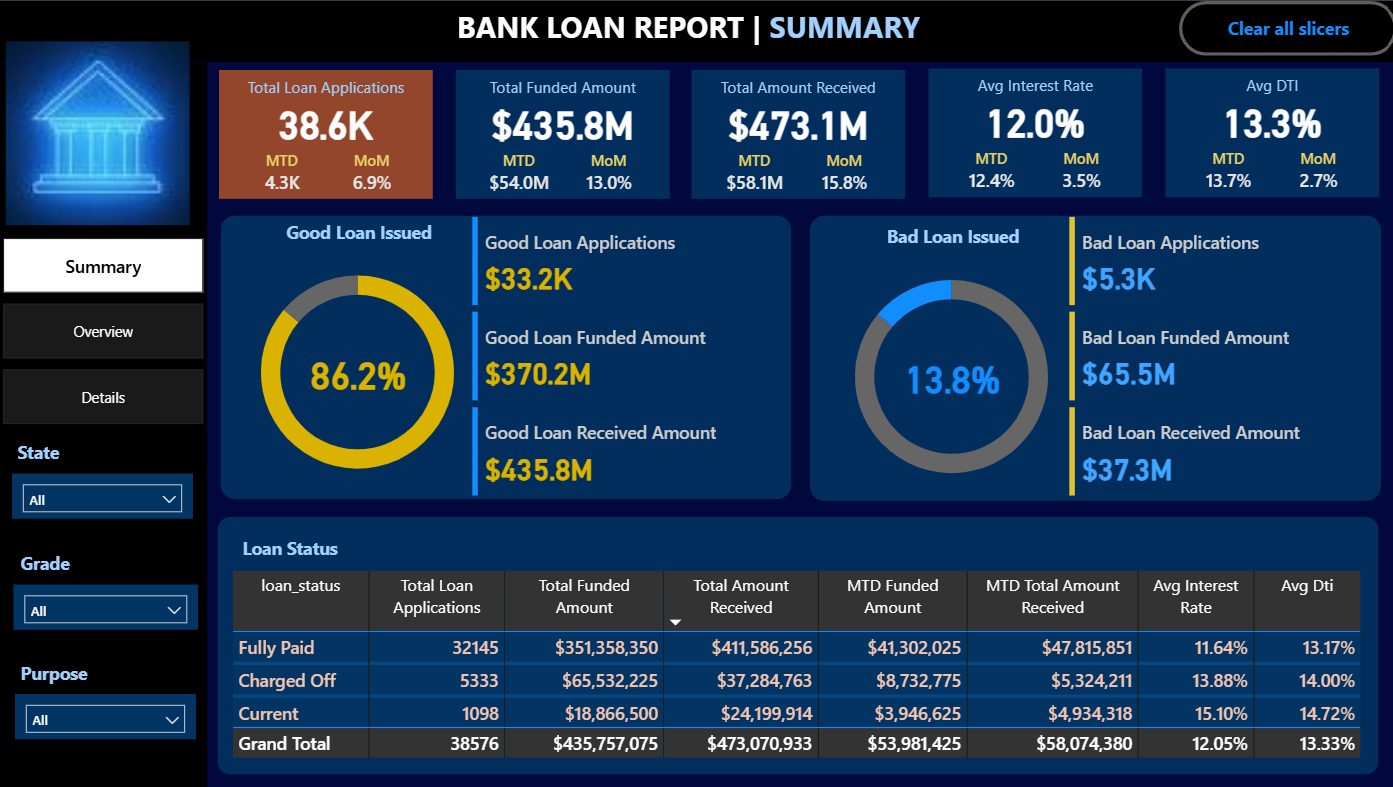

Layout of this report page (visuals, bound fields, positions):
{"tool":"powerbi","page":{"name":"Summary","canvas":[1280,720],"ordinal":0},"visuals":[{"type":"shape","box":[0,55.7,192,664.9],"z":0},{"type":"shape","box":[0,0,1278.9,55.7],"z":1000},{"type":"textbox","box":[415.1,0,447,62],"z":2000},{"type":"shape","box":[851,62,195.6,117.7],"z":3000,"group":"g4"},{"type":"shape","box":[1067.3,62,195.6,117.7],"z":3000,"group":"g5"},{"type":"group","id":"g1","title":"Group 1","box":[203.3,63.3,196.7,118.3],"z":3000},{"type":"shape","box":[203.3,63.3,195.6,117.7],"z":3000,"group":"g1"},{"type":"shape","box":[419,63.3,195.6,117.7],"z":3000,"group":"g2"},{"type":"shape","box":[634.7,63.6,195.6,117.7],"z":3000,"group":"g3"},{"type":"group","id":"g2","title":"Group 1","box":[419,63.3,196.7,118.3],"z":4000},{"type":"card","fields":{"Values":["bank_loan_data.Avg Interest Rate"]},"box":[851,84.3,194.1,50.9],"z":4000,"group":"g4"},{"type":"card","fields":{"Values":["bank_loan_data.Avg Dti"]},"box":[1067.3,84.3,194.1,50.9],"z":4000,"group":"g5"},{"type":"card","fields":{"Values":["bank_loan_data.Total Loan Applications"]},"box":[203.3,85.6,194.1,50.9],"z":4000,"group":"g1"},{"type":"card","fields":{"Values":["bank_loan_data.Total Funded Amount"]},"box":[419,85.6,194.1,50.9],"z":4000,"group":"g2"},{"type":"card","fields":{"Values":["bank_loan_data.Total Amount Received"]},"box":[634.7,85.9,194.1,50.9],"z":4000,"group":"g3"},{"type":"textbox","box":[851,62,195.6,33.4],"z":5000,"group":"g4"},{"type":"textbox","box":[1067.3,62,195.6,33.4],"z":5000,"group":"g5"},{"type":"textbox","box":[203.3,63.3,195.6,33.4],"z":5000,"group":"g1"},{"type":"textbox","box":[419,63.3,195.6,33.4],"z":5000,"group":"g2"},{"type":"textbox","box":[634.7,63.6,195.6,33.4],"z":5000,"group":"g3"},{"type":"shape","box":[203.6,195.6,521.7,259.3],"z":5000},{"type":"group","id":"g3","title":"Group 1","box":[634.7,63.6,197.2,117.7],"z":6000},{"type":"card","title":"MTD","fields":{"Values":["bank_loan_data.MTD Avg Interest Rate"]},"box":[867.4,135,81.7,45],"z":6000,"group":"g4"},{"type":"card","title":"MTD","fields":{"Values":["bank_loan_data.MTD Avg DTI"]},"box":[1083.7,135,81.7,45],"z":6000,"group":"g5"},{"type":"card","title":"MTD","fields":{"Values":["bank_loan_data.MTD Loan Applications"]},"box":[219.7,136.3,81.7,45],"z":6000,"group":"g1"},{"type":"card","title":"MTD","fields":{"Values":["bank_loan_data.MTD Funded Amount"]},"box":[435.4,136.3,81.7,45],"z":6000,"group":"g2"},{"type":"card","title":"MTD","fields":{"Values":["bank_loan_data.MTD Total Amount Received"]},"box":[651.1,136.6,81.7,45],"z":6000,"group":"g3"},{"type":"donutChart","fields":{"Category":["bank_loan_data.Good vs Bad Loan"],"Y":["bank_loan_data.Total Loan Applications"]},"box":[203.6,224.3,249.7,230.6],"z":6000,"group":"g6"},{"type":"donutChart","fields":{"Category":["bank_loan_data.Good vs Bad Loan"],"Y":["bank_loan_data.Total Loan Applications"]},"box":[747.6,228.2,249.7,230.6],"z":6000,"group":"g7"},{"type":"group","id":"g4","title":"Group 1","box":[851,62,197.2,117.7],"z":7000},{"type":"card","title":"MoM","fields":{"Values":["bank_loan_data.MoM Avg Interest Rate"]},"box":[949.1,135,81.7,45],"z":7000,"group":"g4"},{"type":"card","title":"MoM","fields":{"Values":["bank_loan_data.MoM Avg DTI"]},"box":[1165.4,135,81.7,45],"z":7000,"group":"g5"},{"type":"card","title":"MoM","fields":{"Values":["bank_loan_data.MoM Loan Application"]},"box":[301.4,136.3,81.7,45],"z":7000,"group":"g1"},{"type":"card","title":"MoM","fields":{"Values":["bank_loan_data.MoM Total Funded Amount"]},"box":[517.1,136.3,81.7,45],"z":7000,"group":"g2"},{"type":"card","title":"MoM","fields":{"Values":["bank_loan_data.MoM Total Amount Received"]},"box":[732.8,136.6,81.7,45],"z":7000,"group":"g3"},{"type":"card","fields":{"Values":["bank_loan_data.Good Loan %"]},"box":[273.6,315,111.3,50.9],"z":7000,"group":"g6"},{"type":"card","fields":{"Values":["bank_loan_data.Bad Loan %"]},"box":[817.6,318.9,111.3,50.9],"z":7000,"group":"g7"},{"type":"group","id":"g5","title":"Group 1","box":[1067.3,62,197.2,117.7],"z":8000},{"type":"textbox","box":[232.2,195.7,195.6,33.4],"z":8000,"group":"g6"},{"type":"textbox","box":[776.2,199.6,195.6,33.4],"z":8000,"group":"g7"},{"type":"shape","box":[202,470.8,1060.9,235.4],"z":9000},{"type":"textbox","box":[219.5,483.5,111.3,35],"z":10000},{"type":"shape","box":[742.8,195.6,521.7,260.9],"z":11000},{"type":"group","id":"g6","title":"Group 2","box":[203.6,192.5,513.8,265.6],"z":12000},{"type":"cardVisual","fields":{"Data":["bank_loan_data.Good Loan Applications","bank_loan_data.Good Loan Funded Amount","bank_loan_data.Good Loan Received Amount"]},"box":[427.9,192.5,289.5,265.6],"z":13000,"group":"g6"},{"type":"group","id":"g7","title":"Group 2","box":[747.6,192.5,516.9,265.6],"z":13000},{"type":"cardVisual","fields":{"Data":["bank_loan_data.Bad Loan Applications","bank_loan_data.Bad Loan Funded Amount","bank_loan_data.Bad Loan Received Amount"]},"box":[975.3,192.5,289.5,265.6],"z":13000,"group":"g7"},{"type":"tableEx","fields":{"Values":["bank_loan_data.loan_status","bank_loan_data.Total Loan Applications","bank_loan_data.Total Funded Amount","bank_loan_data.Total Amount Received","bank_loan_data.MTD Funded Amount","bank_loan_data.MTD Total Amount Received","bank_loan_data.Avg Interest Rate","bank_loan_data.Avg Dti"]},"box":[210,515,1045,190],"z":14000},{"type":"slicer","fields":{"Values":["bank_loan_data.address_state"]},"box":[14.3,431.8,165.4,41.4],"z":15000,"group":"g10"},{"type":"group","id":"g8","title":"Group 3","box":[15.9,598.1,165.4,76.3],"z":15000},{"type":"textbox","box":[14.3,396.8,111.3,35],"z":16000,"group":"g10"},{"type":"group","id":"g9","title":"Group 4","box":[15.8,498.1,169,75.9],"z":16000},{"type":"group","id":"g10","title":"Group 5","box":[14.3,396.8,164.7,77.3],"z":17000},{"type":"slicer","fields":{"Values":["bank_loan_data.grade"]},"box":[15.8,533.1,168.6,41.4],"z":17000,"group":"g9"},{"type":"image","box":[0,31.7,183.3,178.3],"z":18000},{"type":"slicer","fields":{"Values":["bank_loan_data.purpose"]},"box":[15.9,633.1,165.4,41.4],"z":18000,"group":"g8"},{"type":"pageNavigator","box":[5,216.7,183.3,171.7],"z":19000},{"type":"textbox","box":[17.4,498.1,111.3,35],"z":19000,"group":"g9"},{"type":"actionButton","box":[1080,0,200,50],"z":20000},{"type":"textbox","box":[15.9,598.1,111.3,35],"z":20000,"group":"g8"}]}

Visuals, with their boxes in screenshot pixels (x1, y1, x2, y2), scaled from the page's 1280x720 canvas onto the 1393x787 screenshot:
shape: <box>0,61,209,786</box>
shape: <box>0,0,1392,61</box>
textbox: <box>452,0,938,68</box>
shape: <box>926,68,1139,196</box>
shape: <box>1162,68,1374,196</box>
"Group 1" group: <box>221,69,435,198</box>
shape: <box>221,69,434,198</box>
shape: <box>456,69,669,198</box>
shape: <box>691,70,904,198</box>
"Group 1" group: <box>456,69,670,198</box>
card - bank_loan_data.Avg Interest Rate: <box>926,92,1137,148</box>
card - bank_loan_data.Avg Dti: <box>1162,92,1373,148</box>
card - bank_loan_data.Total Loan Applications: <box>221,94,432,149</box>
card - bank_loan_data.Total Funded Amount: <box>456,94,667,149</box>
card - bank_loan_data.Total Amount Received: <box>691,94,902,150</box>
textbox: <box>926,68,1139,104</box>
textbox: <box>1162,68,1374,104</box>
textbox: <box>221,69,434,106</box>
textbox: <box>456,69,669,106</box>
textbox: <box>691,70,904,106</box>
shape: <box>222,214,789,497</box>
"Group 1" group: <box>691,70,905,198</box>
"MTD" card: <box>944,148,1033,197</box>
"MTD" card: <box>1179,148,1268,197</box>
"MTD" card: <box>239,149,328,198</box>
"MTD" card: <box>474,149,563,198</box>
"MTD" card: <box>709,149,797,198</box>
donutChart - bank_loan_data.Good vs Bad Loan x bank_loan_data.Total Loan Applications: <box>222,245,493,497</box>
donutChart - bank_loan_data.Good vs Bad Loan x bank_loan_data.Total Loan Applications: <box>814,249,1085,501</box>
"Group 1" group: <box>926,68,1141,196</box>
"MoM" card: <box>1033,148,1122,197</box>
"MoM" card: <box>1268,148,1357,197</box>
"MoM" card: <box>328,149,417,198</box>
"MoM" card: <box>563,149,652,198</box>
"MoM" card: <box>797,149,886,198</box>
card - bank_loan_data.Good Loan %: <box>298,344,419,400</box>
card - bank_loan_data.Bad Loan %: <box>890,349,1011,404</box>
"Group 1" group: <box>1162,68,1376,196</box>
textbox: <box>253,214,466,250</box>
textbox: <box>845,218,1058,255</box>
shape: <box>220,515,1374,772</box>
textbox: <box>239,528,360,567</box>
shape: <box>808,214,1376,499</box>
"Group 2" group: <box>222,210,781,501</box>
cardVisual - bank_loan_data.Good Loan Applications x bank_loan_data.Good Loan Funded Amount: <box>466,210,781,501</box>
"Group 2" group: <box>814,210,1376,501</box>
cardVisual - bank_loan_data.Bad Loan Applications x bank_loan_data.Bad Loan Funded Amount: <box>1061,210,1376,501</box>
tableEx - bank_loan_data.loan_status x bank_loan_data.Total Loan Applications: <box>229,563,1366,771</box>
slicer - bank_loan_data.address_state: <box>16,472,196,517</box>
"Group 3" group: <box>17,654,197,737</box>
textbox: <box>16,434,137,472</box>
"Group 4" group: <box>17,544,201,627</box>
"Group 5" group: <box>16,434,195,518</box>
slicer - bank_loan_data.grade: <box>17,583,201,628</box>
image: <box>0,35,199,230</box>
slicer - bank_loan_data.purpose: <box>17,692,197,737</box>
pageNavigator: <box>5,237,205,425</box>
textbox: <box>19,544,140,583</box>
actionButton: <box>1175,0,1392,55</box>
textbox: <box>17,654,138,692</box>
